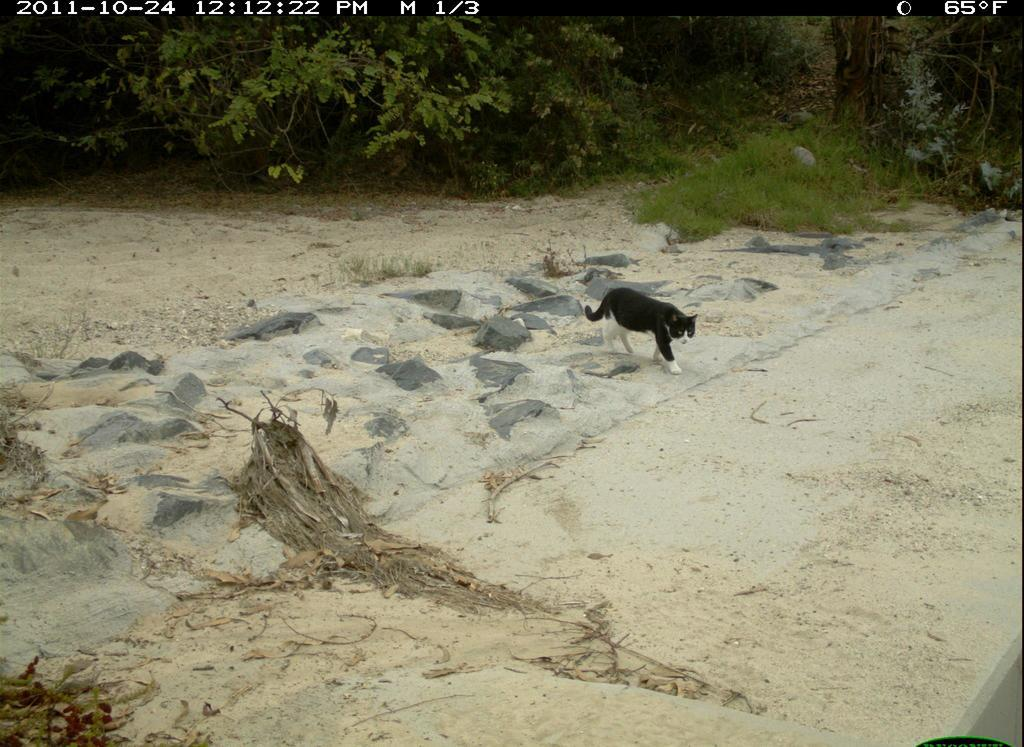cat: (561, 257, 771, 413)
